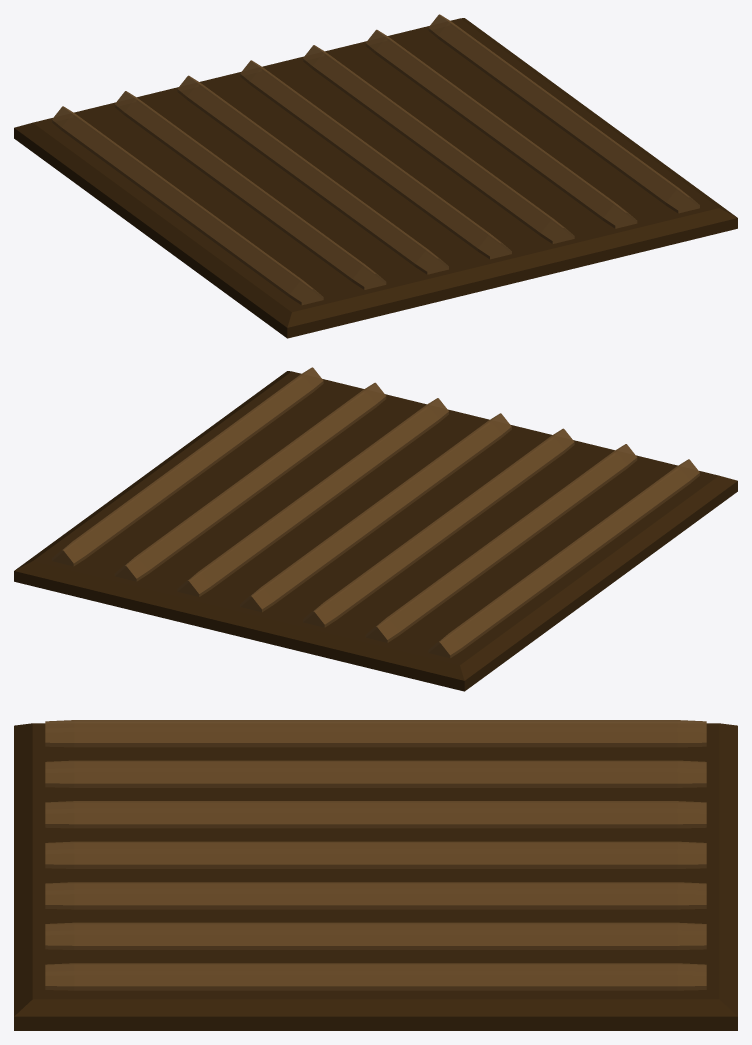
The model's file is FarmEmpty.fbx.
The picture shows the model from 3 angles, top to bottom: view 1: azimuth 30°, elevation 25°; view 2: azimuth 150°, elevation 25°; view 3: azimuth 270°, elevation 25°; orthographic projection. The views are drawn at different scales.
Parts seen in each view (by area): view 1: FarmEmpty; view 2: FarmEmpty; view 3: FarmEmpty.
Part boxes in pixels (x1=…): FarmEmpty: x1=14, y1=14, x2=737, y2=338; FarmEmpty: x1=14, y1=367, x2=737, y2=691; FarmEmpty: x1=14, y1=720, x2=737, y2=1030.
Bounding box in the file's own units: 583 × 40.17 × 613.
